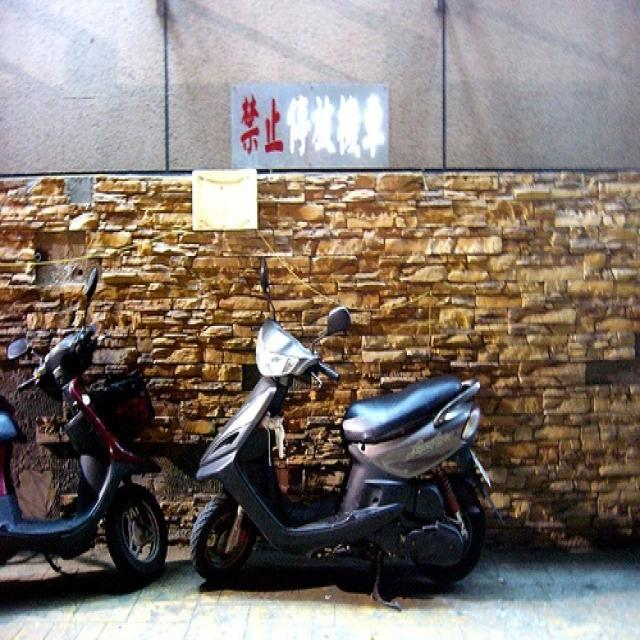motorbike: (190, 254, 508, 614), (2, 269, 169, 588)
